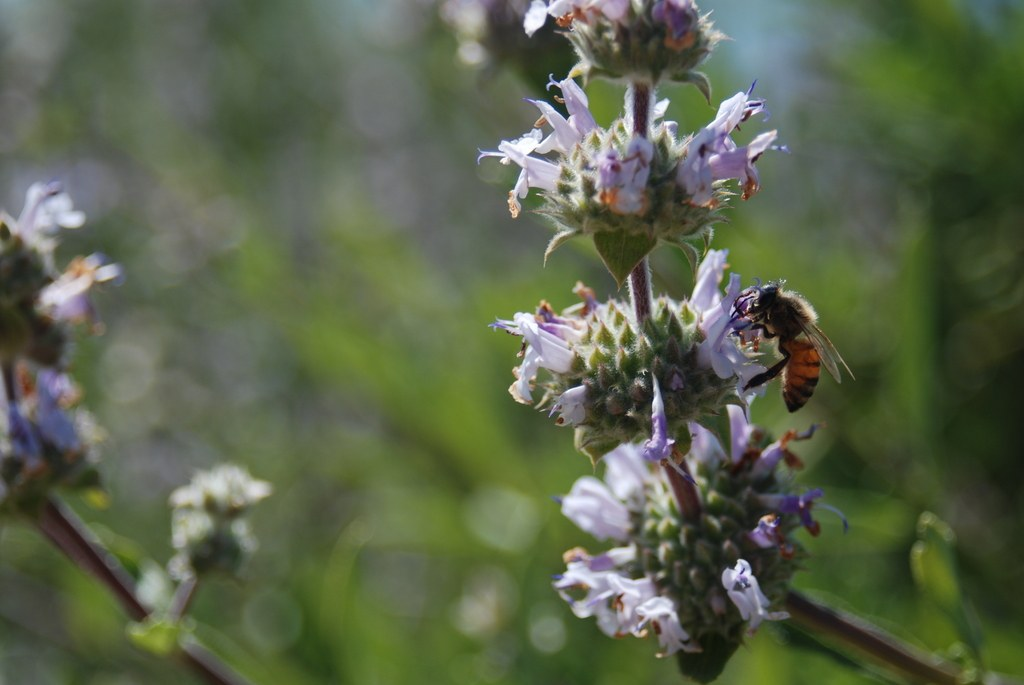bee: (719, 278, 858, 427)
insect: (556, 404, 838, 653), (473, 72, 793, 283), (495, 248, 773, 474), (0, 182, 117, 374), (515, 0, 731, 95), (0, 373, 113, 530), (432, 0, 564, 63)
